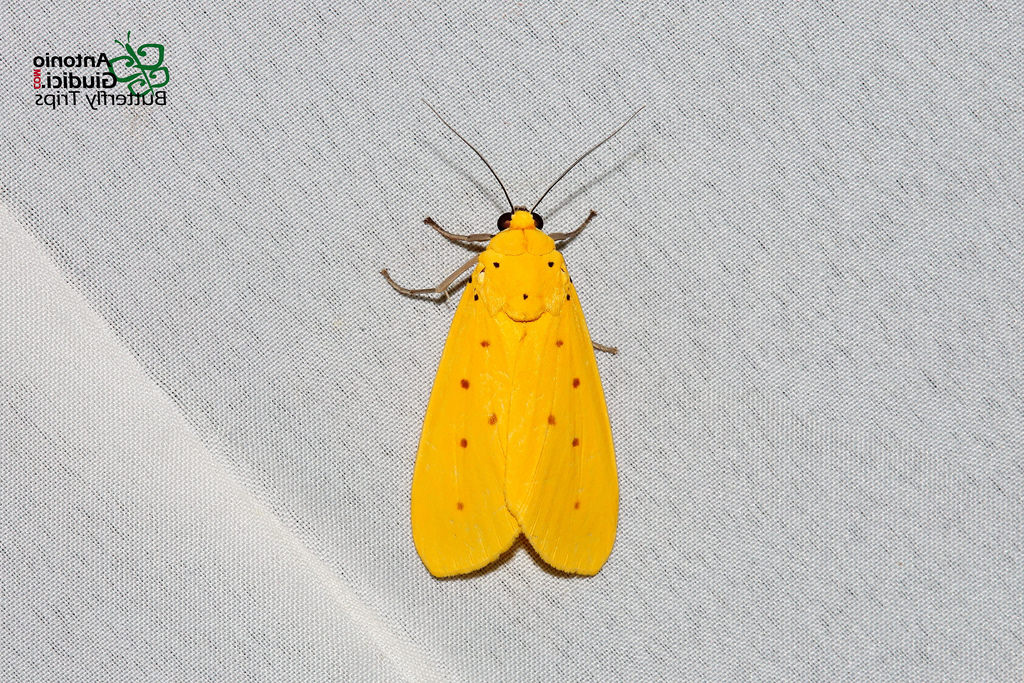Agape chloropyga: (368, 92, 655, 583)
moth: (366, 90, 653, 581)
